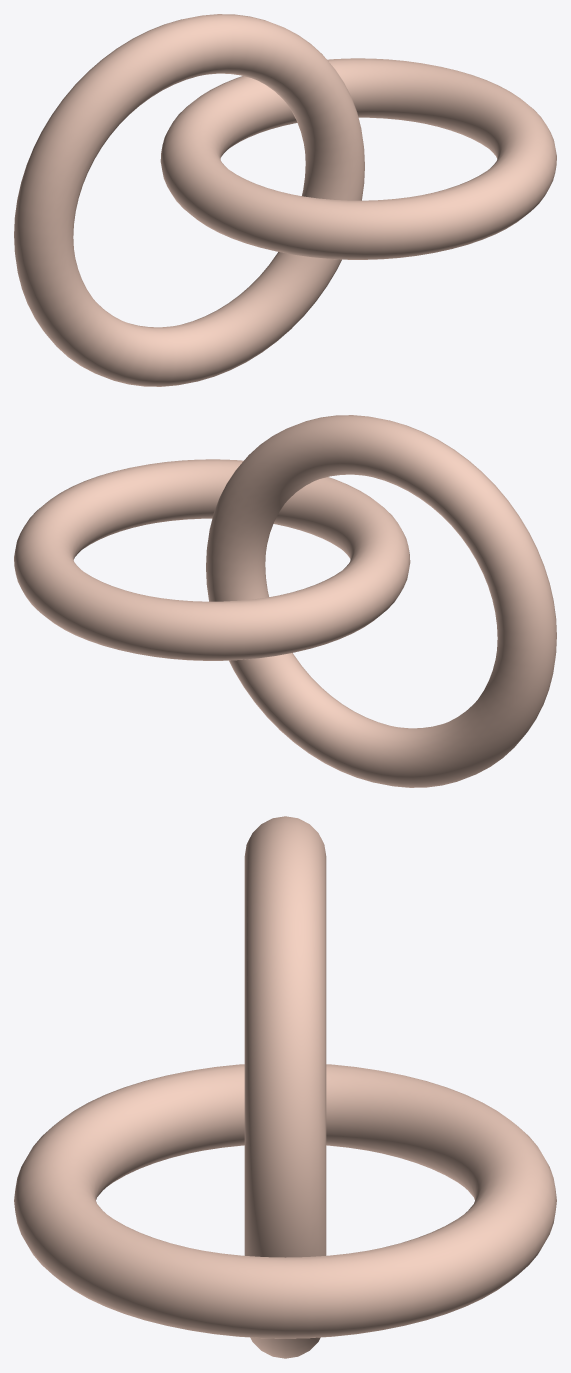
File: rings.gltf
3 renders of one model, top to bottom at view 1: azimuth 30°, elevation 25°; view 2: azimuth 150°, elevation 25°; view 3: azimuth 270°, elevation 25°, orthographic. The views are drawn at different scales.
Visible parts, largest first — view 1: rings; view 2: rings; view 3: rings.
Boxes of the visible parts, bbox=[...] form: rings: bbox=[14, 14, 556, 386]; rings: bbox=[14, 415, 556, 787]; rings: bbox=[14, 816, 556, 1358].
Bounding box in the file's own units: 2.18 × 1.46 × 1.46.
